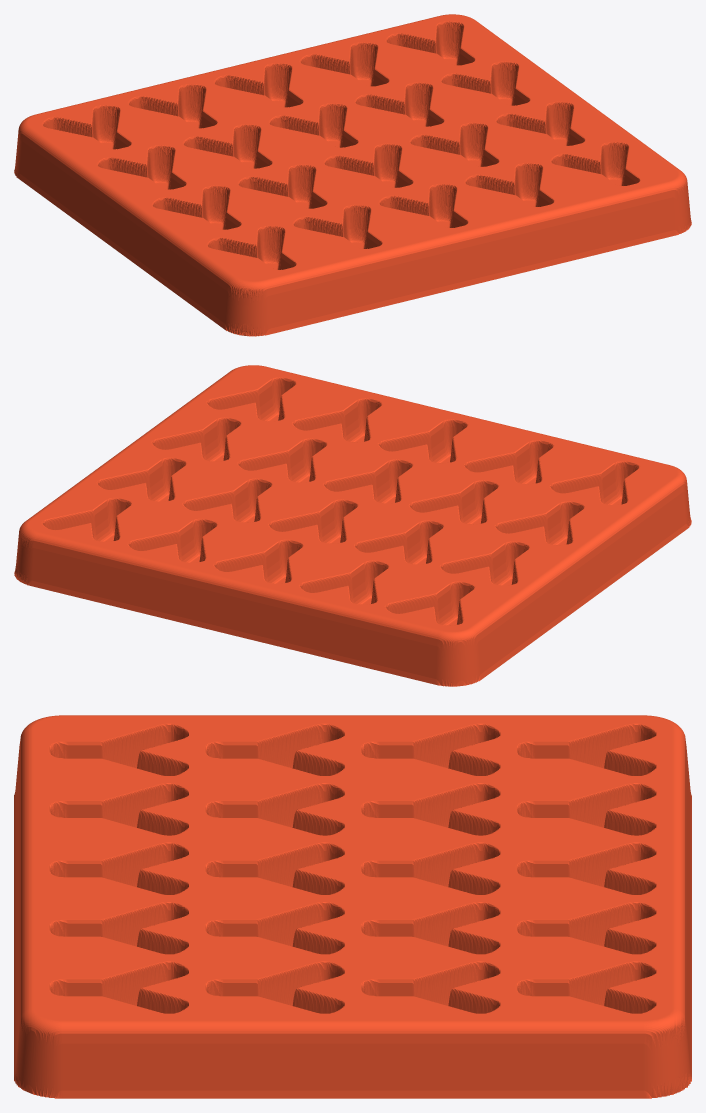
Rendered from mold.glb.
3 renders of one model, top to bottom at view 1: azimuth 30°, elevation 25°; view 2: azimuth 150°, elevation 25°; view 3: azimuth 270°, elevation 25°, orthographic. The views are drawn at different scales.
Visible parts, largest first — view 1: geometry_0; view 2: geometry_0; view 3: geometry_0.
Part boxes in pixels (left/top/right/bottom): geometry_0: left=14, top=14, right=691, bottom=336; geometry_0: left=14, top=365, right=691, bottom=686; geometry_0: left=14, top=715, right=691, bottom=1098.
Size of the model in its own units: 0.1428 by 0.0145 by 0.1278.
